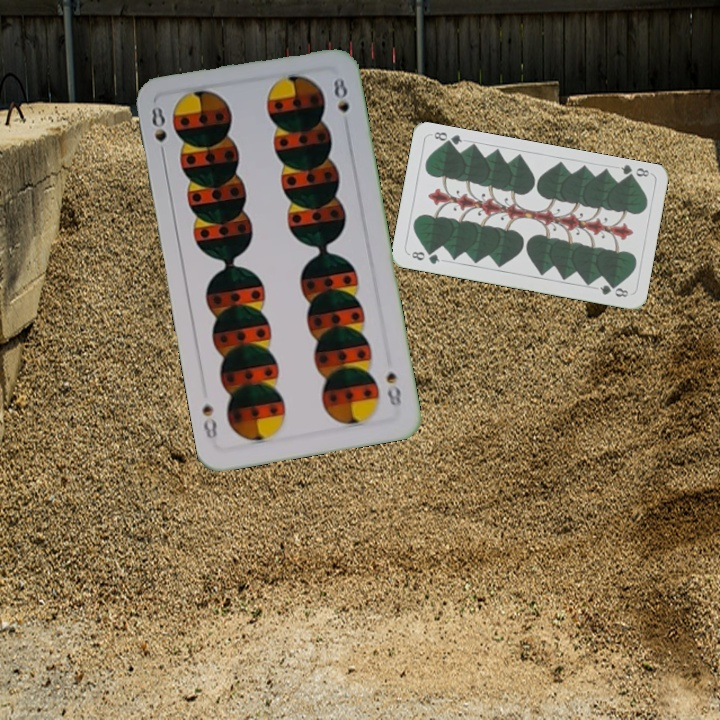G8: (617, 161, 652, 183), (405, 247, 442, 267)
S8: (147, 102, 170, 161), (382, 367, 404, 409)
